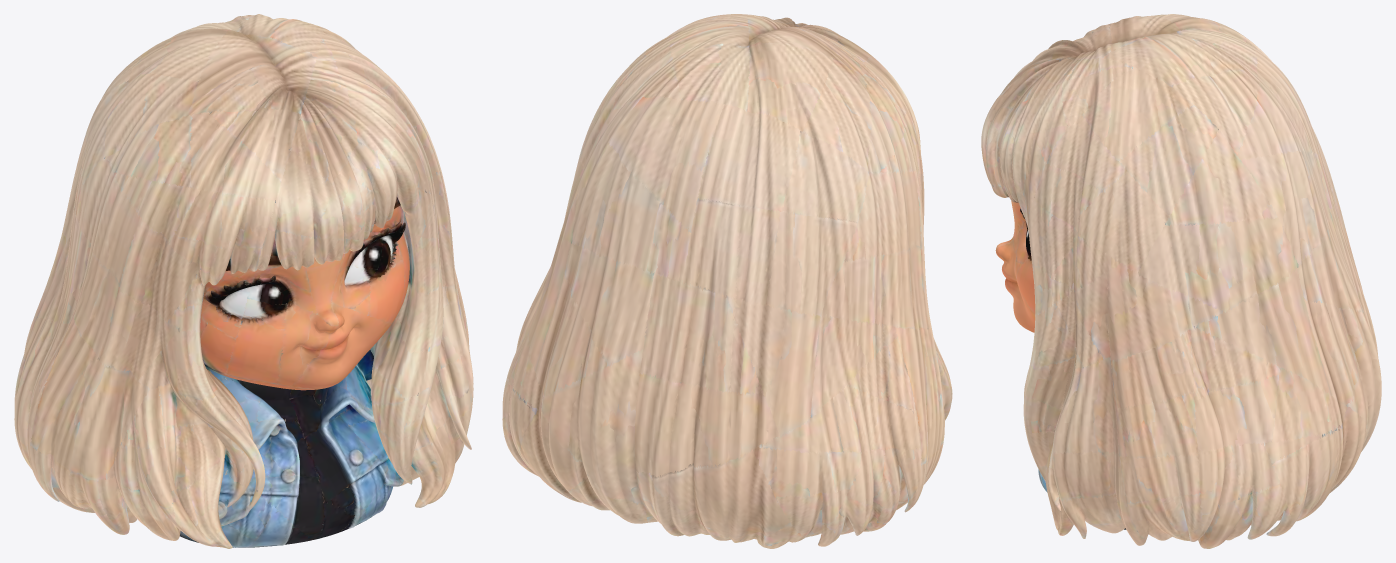
File: planet-04.glb
3 views of the same model, side by side, from view 1: azimuth 30°, elevation 25°; view 2: azimuth 150°, elevation 25°; view 3: azimuth 270°, elevation 25° (orthographic). The views are drawn at different scales.
Size of the model in its own units: 1.77 by 1.9 by 1.54.
Materials: 1 (1 with a texture image).
